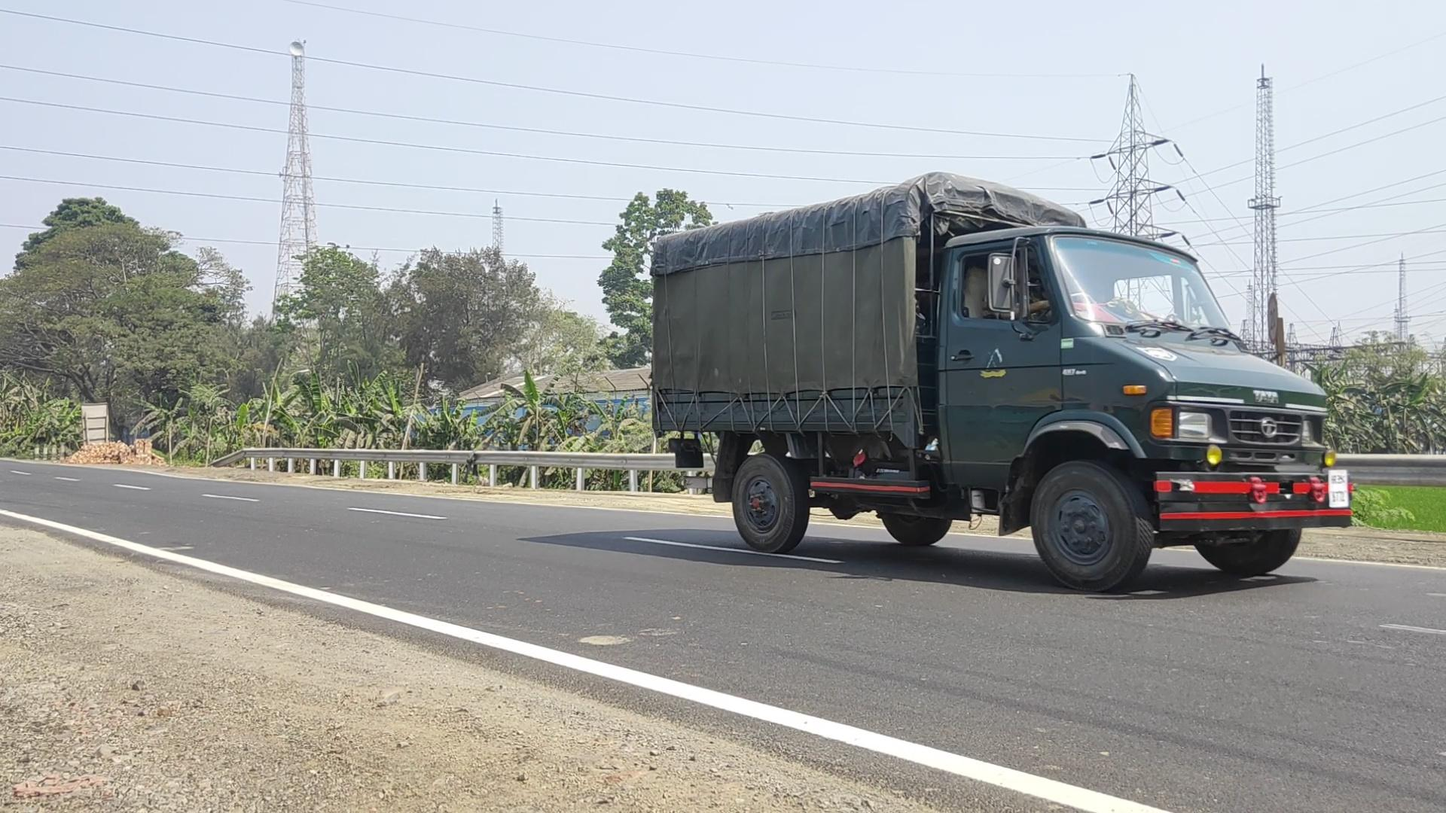truck: (648, 171, 1353, 594)
